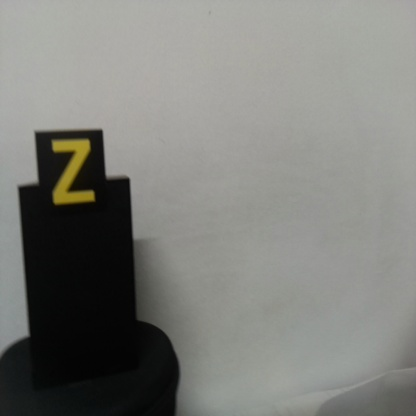id_15: (35, 132, 105, 218)
